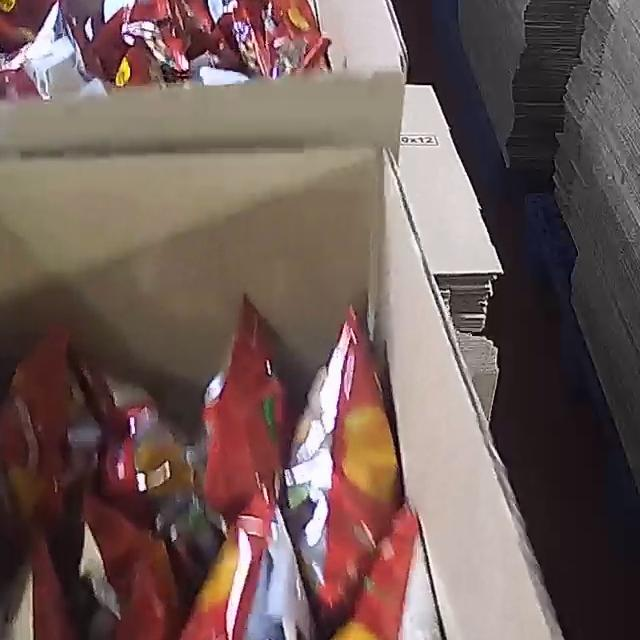masala: (0, 292, 499, 640), (0, 0, 334, 105)
